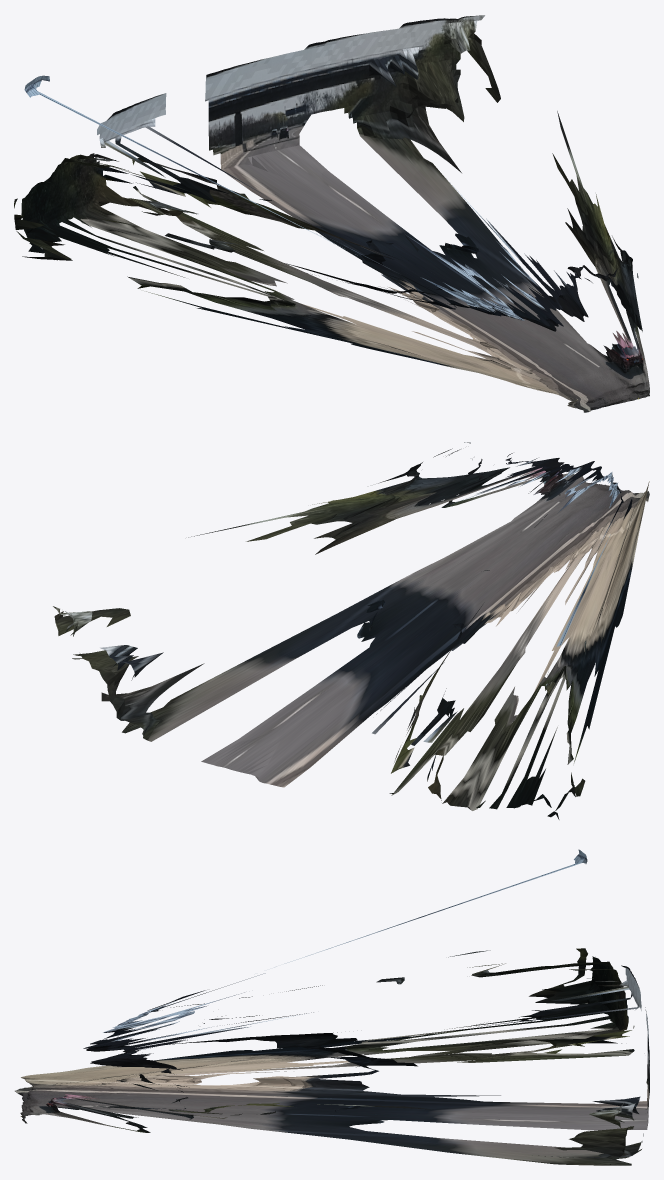
The picture shows the model from 3 angles, top to bottom: view 1: azimuth 30°, elevation 25°; view 2: azimuth 150°, elevation 25°; view 3: azimuth 270°, elevation 25°; orthographic projection. The views are drawn at different scales.
Parts seen in each view (by area): view 1: defaultobject; view 2: defaultobject; view 3: defaultobject.
Part boxes in pixels (bbox=[...]): defaultobject: bbox=[14, 15, 649, 412]; defaultobject: bbox=[53, 442, 649, 819]; defaultobject: bbox=[14, 849, 649, 1165].
Size of the model in its own units: 38.33 by 12.17 by 44.72.
1 material, 1 textured.
